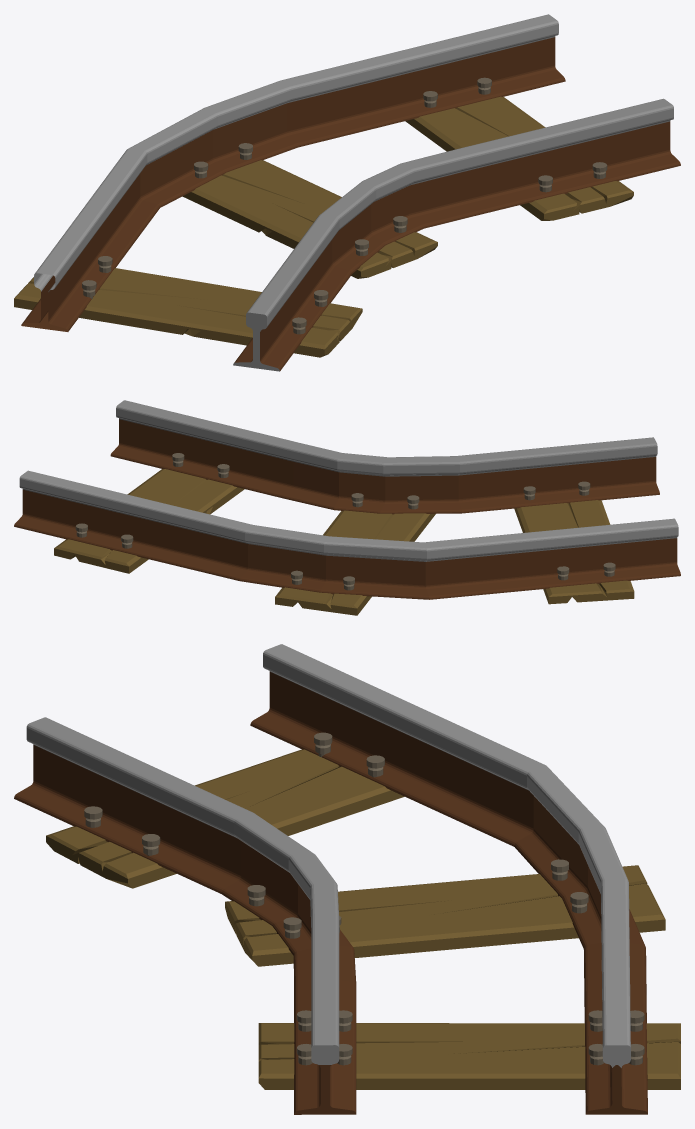
Rendered from ray_tahta_egimli_revize.fbx.
3 views of the same model, one above another, from view 1: azimuth 30°, elevation 25°; view 2: azimuth 150°, elevation 25°; view 3: azimuth 270°, elevation 25° (orthographic). The views are drawn at different scales.
Parts seen in each view (by area): view 1: Cube.002, Cylinder.004, Cylinder.003, Cylinder.022; view 2: Cube.002, Cylinder.022, Cylinder.003, Cylinder.004; view 3: Cube.002, Cylinder.022, Cylinder.003, Cylinder.004.
Part boxes in pixels (<box>): Cube.002: <box>21,14,680,371</box>; Cylinder.004: <box>14,256,362,357</box>; Cylinder.003: <box>182,143,437,278</box>; Cylinder.022: <box>405,77,633,220</box>; Cube.002: <box>14,400,680,599</box>; Cylinder.022: <box>54,453,244,573</box>; Cylinder.003: <box>275,493,435,615</box>; Cylinder.004: <box>514,481,634,604</box>; Cube.002: <box>14,644,647,1114</box>; Cylinder.022: <box>258,1010,680,1089</box>; Cylinder.003: <box>225,859,665,966</box>; Cylinder.004: <box>46,732,404,888</box>.
Size of the model in its own units: 864 by 81.42 by 598.
